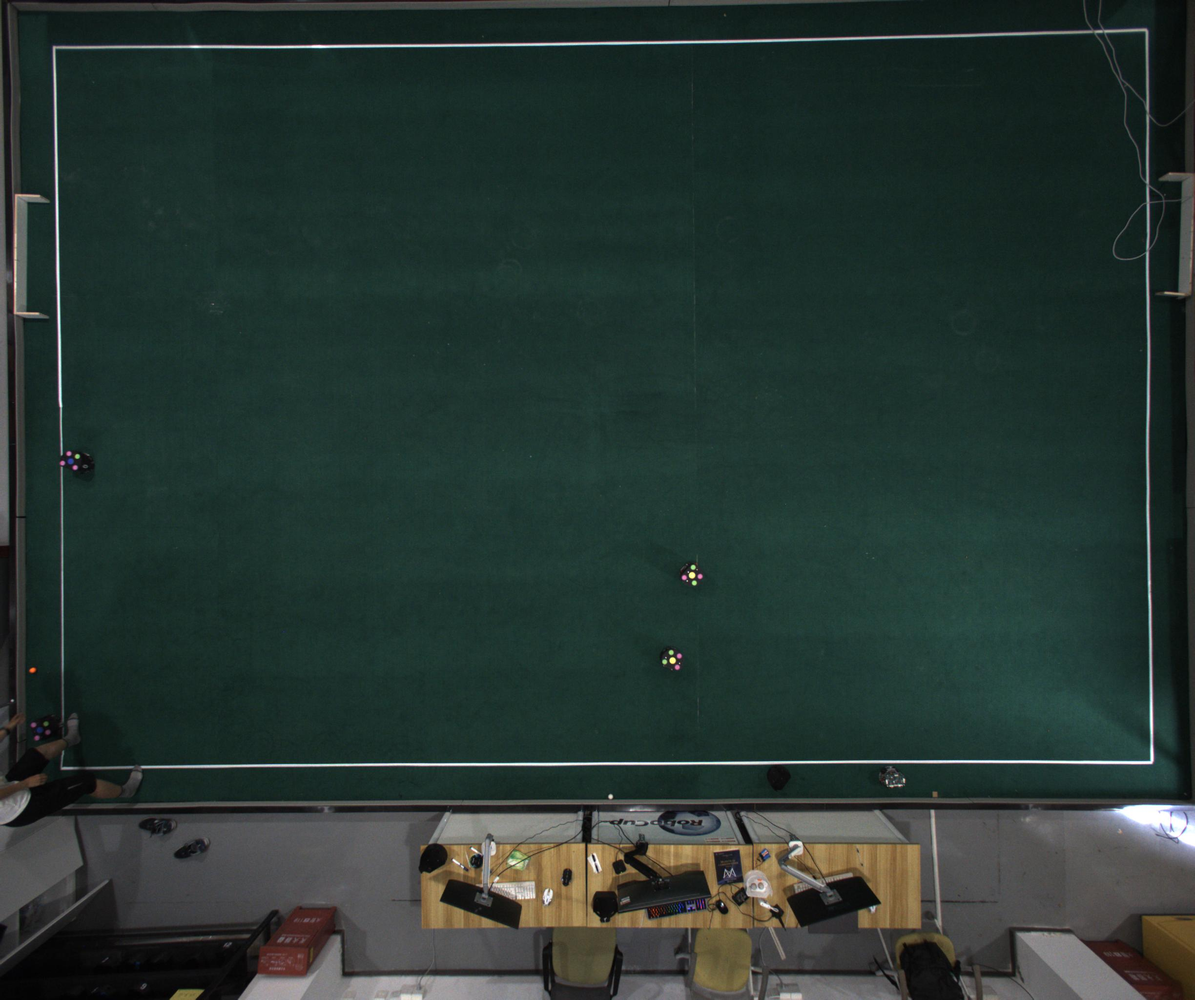ball: (29, 668, 37, 674)
blue_bot: (59, 449, 84, 472), (30, 719, 52, 743)
yellow_bot: (679, 562, 705, 588), (660, 648, 683, 673)
